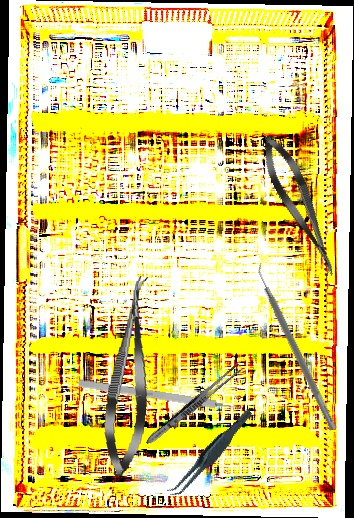Dressing Forceps: (143, 361, 244, 448)
Hook Surgical: (78, 378, 247, 414)
Micro Scissor: (253, 129, 347, 283), (99, 273, 160, 479)
Spatula Surgical: (250, 261, 345, 431)
Tissue Forceps: (154, 408, 267, 499)
